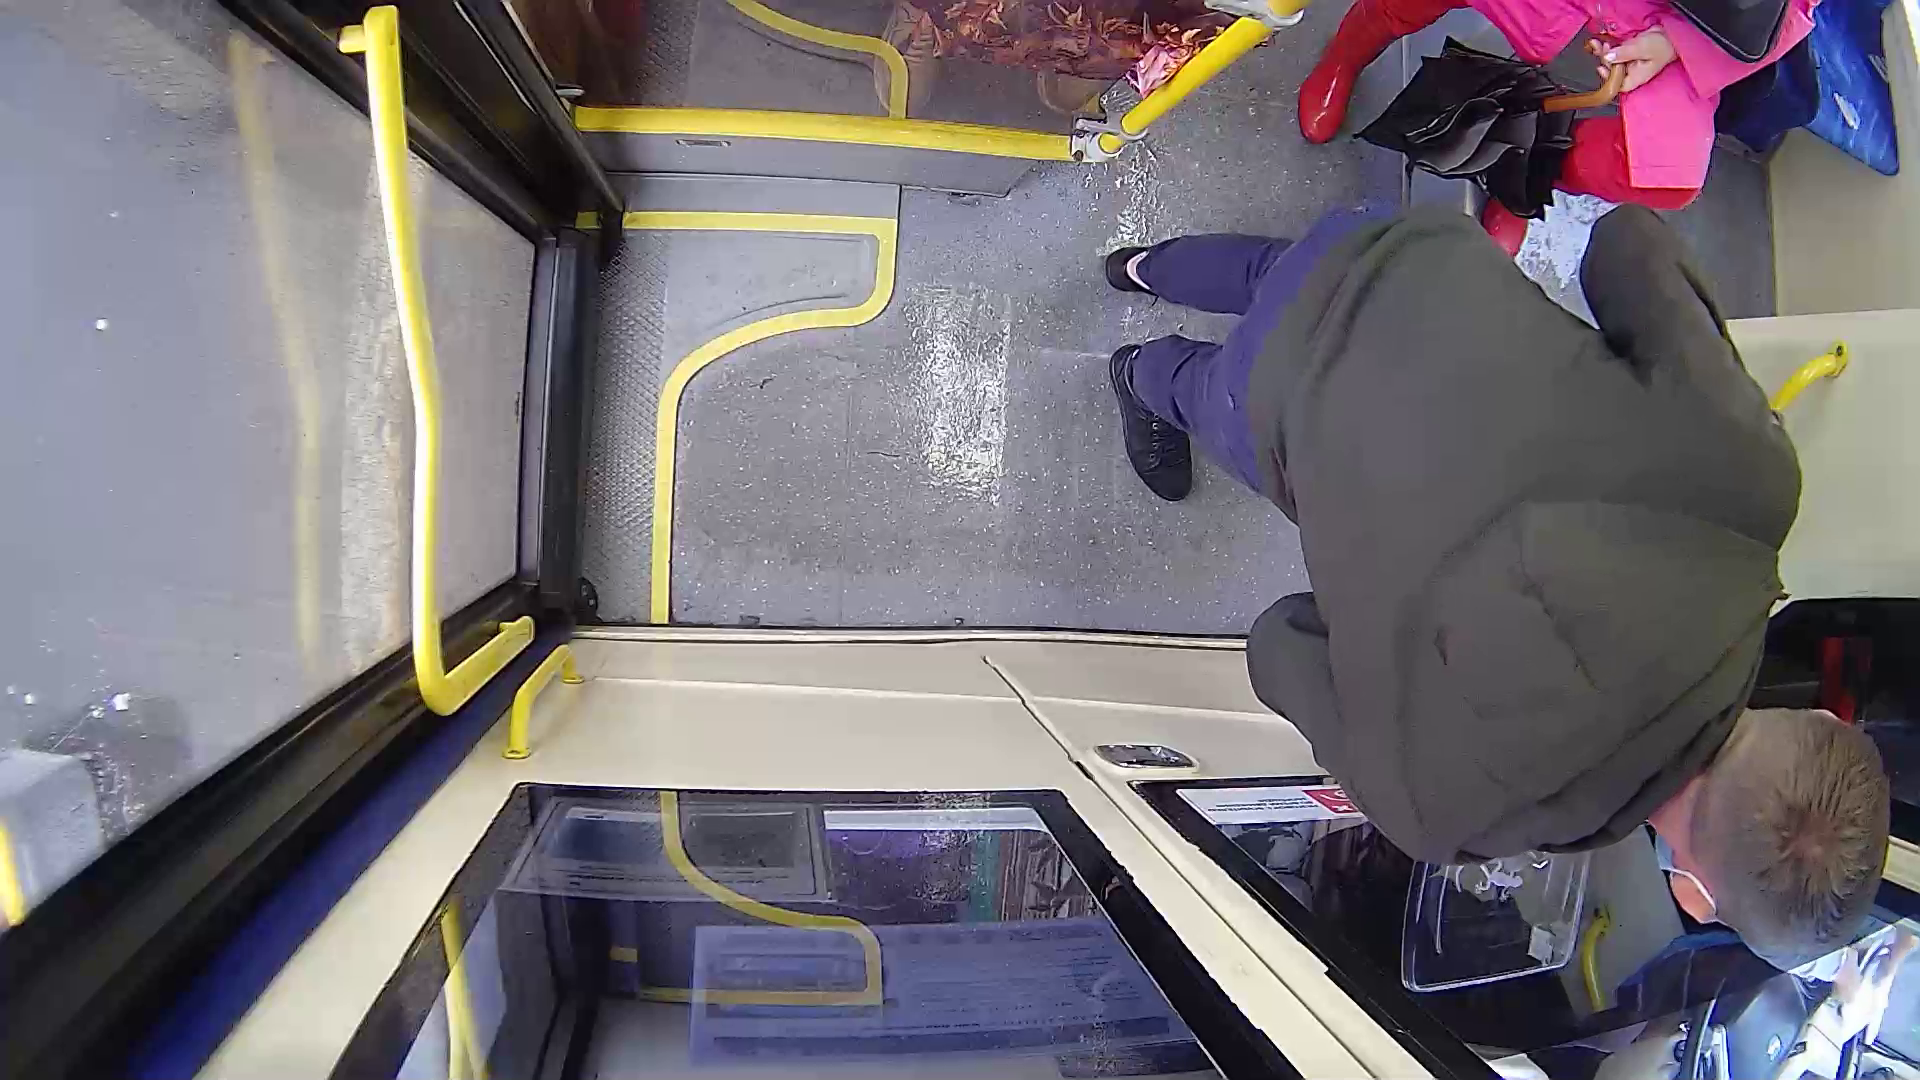person: (1078, 195, 1877, 910)
